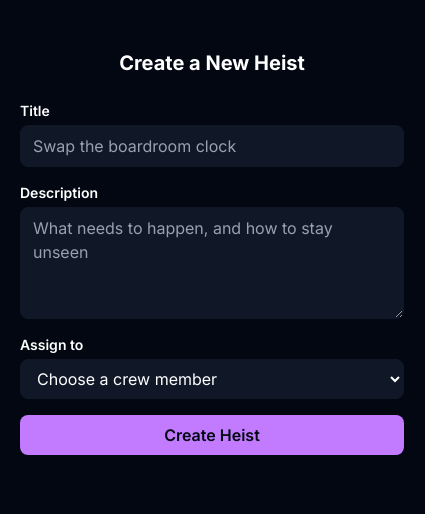
Test: CreateHeistPage › blocks submission and shows an error when fields are empty
The width and height of the screenshot is (425, 514).
Click the button "Create Heist" at (212, 435), box 20,415 -> 404,455
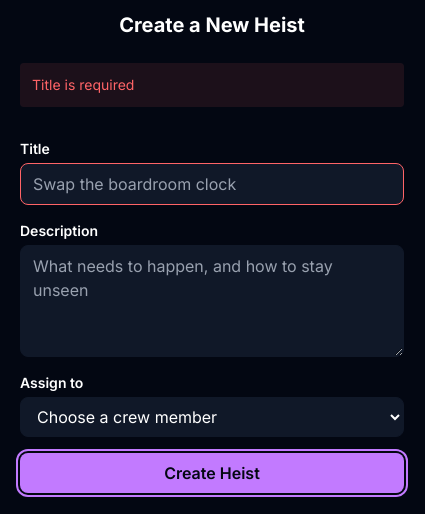
Expected: the message reads "Title is required", 32,76 -> 134,93
